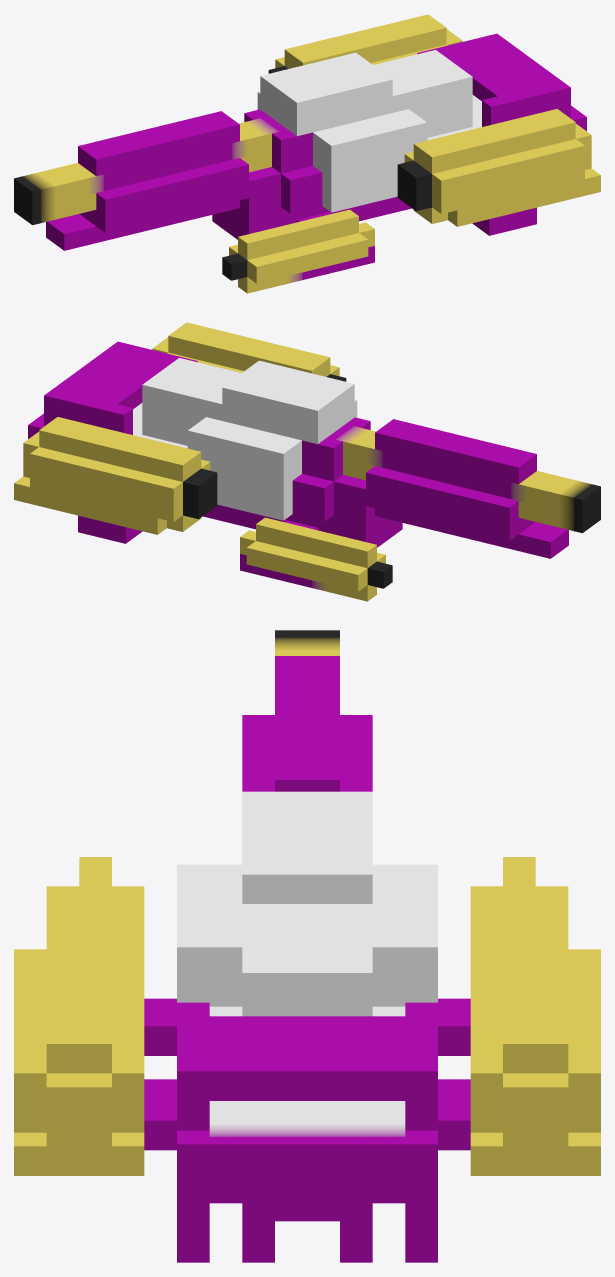
Rendered from Player_2.fbx.
3 views of the same model, one above another, from view 1: azimuth 30°, elevation 25°; view 2: azimuth 150°, elevation 25°; view 3: azimuth 270°, elevation 25° (orthographic). The views are drawn at different scales.
Visible parts, largest first — view 1: Player_2; view 2: Player_2; view 3: Player_2.
Boxes of the visible parts, x1,y1,x2,y2 form: Player_2: [14, 14, 600, 293]; Player_2: [14, 322, 600, 601]; Player_2: [14, 630, 600, 1262].
Size of the model in its own units: 33 by 8 by 18.
1 material, 1 textured.
